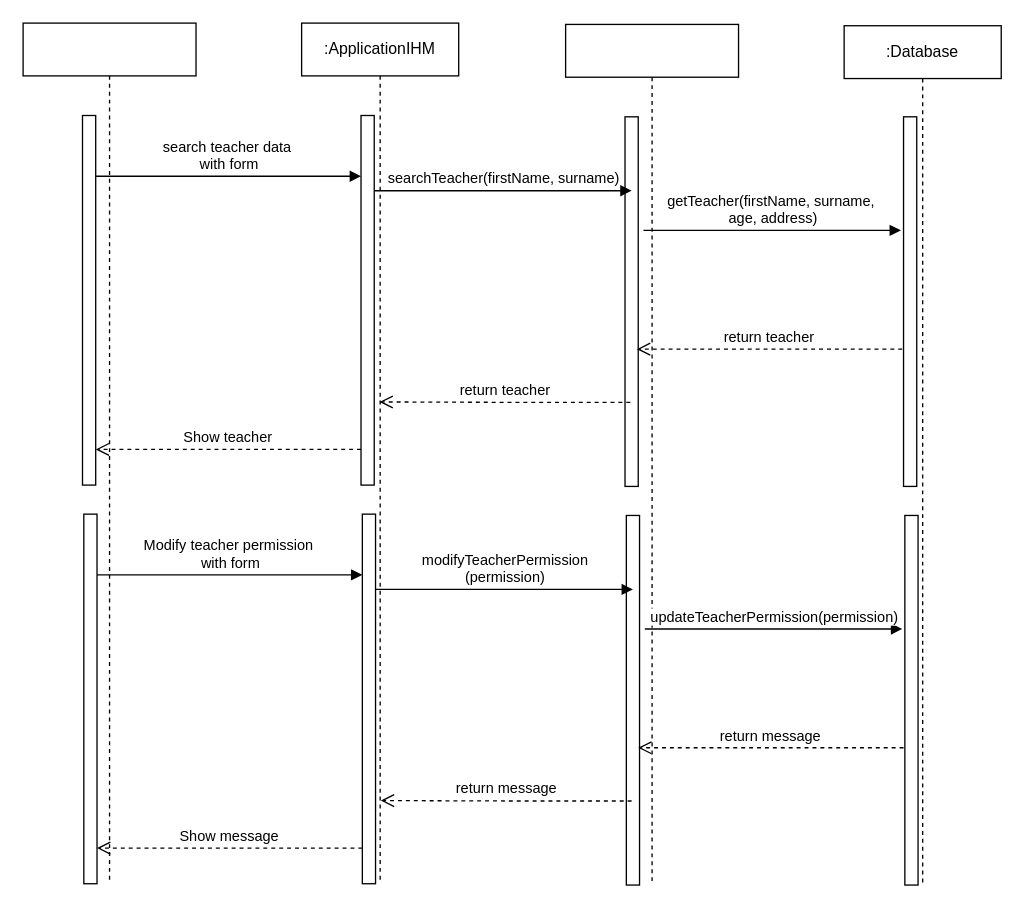
This 1024x908 diagram has some shape labels left out. The centre of each missing label's shape, as x and y in pixels:
":Administrator" goes at pixel 109 453.
":Control" goes at pixel 651 454.
